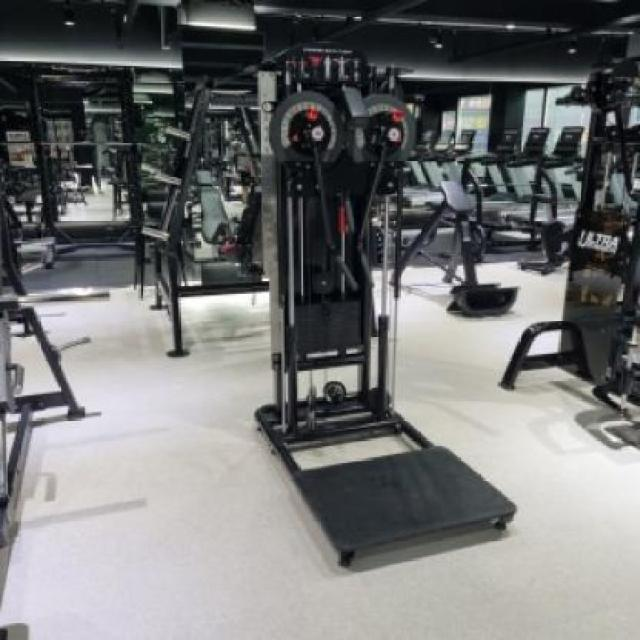lateral raises machine: (266, 89, 431, 571)
